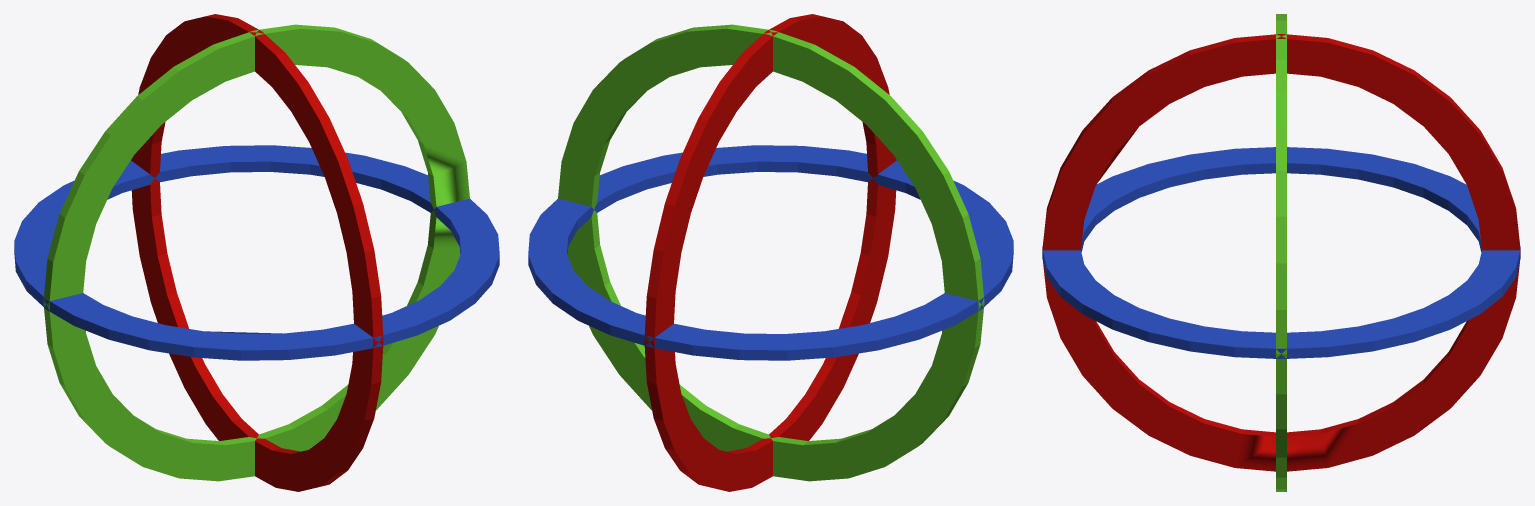
The model's file is rotate1.fbx.
3 renders of one model, left to right at view 1: azimuth 30°, elevation 25°; view 2: azimuth 150°, elevation 25°; view 3: azimuth 270°, elevation 25°, orthographic.
Visible parts, largest first — view 1: Object; view 2: Object; view 3: Object.
Boxes of the visible parts, left/top/right/bottom form: Object: left=14, top=14, right=499, bottom=491; Object: left=528, top=14, right=1013, bottom=491; Object: left=1042, top=14, right=1520, bottom=491.
Size of the model in its own units: 200 by 200 by 200.
3 materials, 3 textured.
